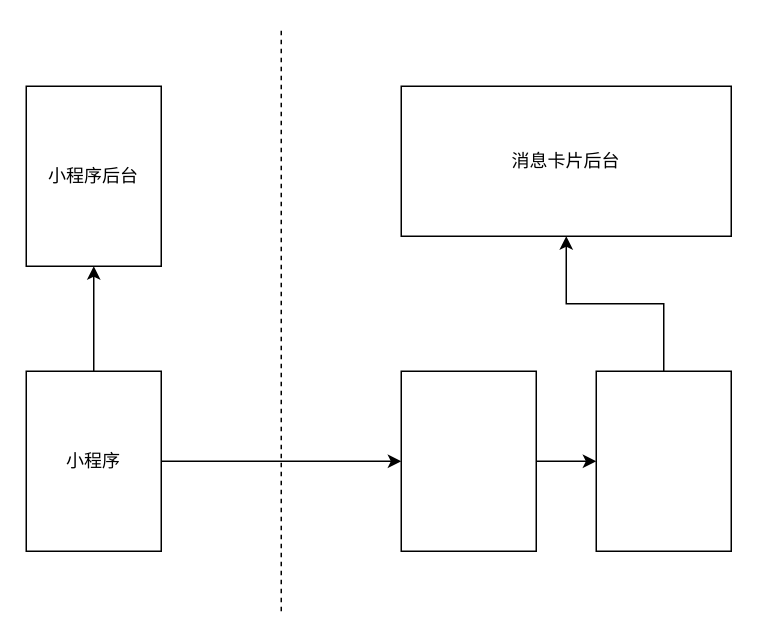
The diagram is 758 pixels wide and 639 high, and some of its shapes have lost their labels. The centre of each missing label's shape, as x and y in pixels:
jsbridge: point (468, 460)
引擎 消息发送模块: point (663, 460)
